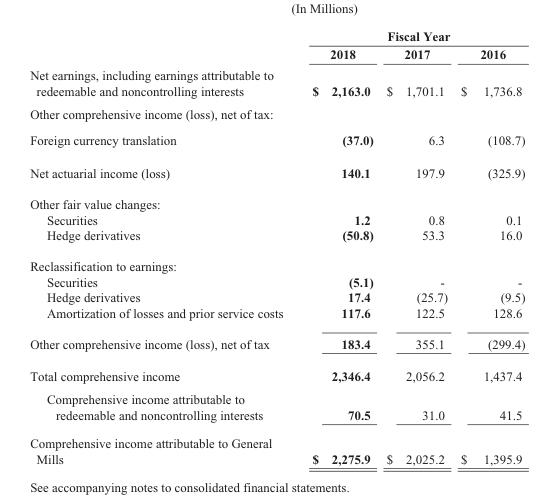table: (29, 28, 524, 465)
table column: (29, 28, 296, 465), (296, 28, 379, 465), (379, 28, 453, 465), (453, 28, 524, 465)
table column header: (29, 28, 524, 64)
table projected row header: (29, 102, 524, 126), (29, 188, 524, 211), (29, 250, 524, 273)
table row: (29, 387, 524, 428), (29, 64, 524, 102), (29, 428, 524, 465), (29, 156, 524, 188), (29, 328, 524, 359), (29, 126, 524, 156), (29, 359, 524, 387), (29, 102, 524, 126), (29, 304, 524, 328), (29, 188, 524, 211), (29, 227, 524, 250), (29, 250, 524, 273), (29, 45, 524, 64), (29, 28, 524, 45), (29, 211, 524, 227), (29, 273, 524, 289), (29, 289, 524, 304)
table spanning cell: (296, 28, 524, 45)
